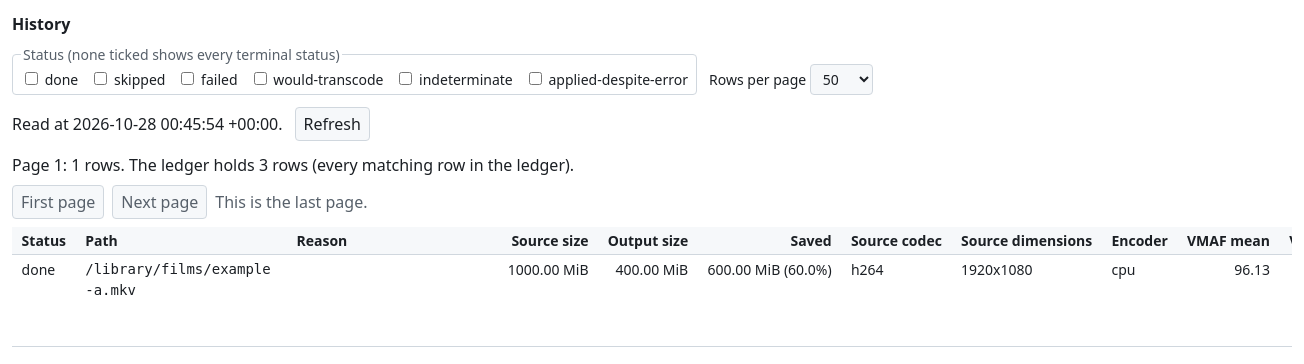
history view › history view: a page that arrives after the filter changed does not land over the newer one
Expected: the text "Read at 2026-10-28 00:45:54 +00:00." is shown, [12,112,282,136]
Click the checkbox labelled "failed" at {"x": 188, "y": 78}, box [182,72,194,85]
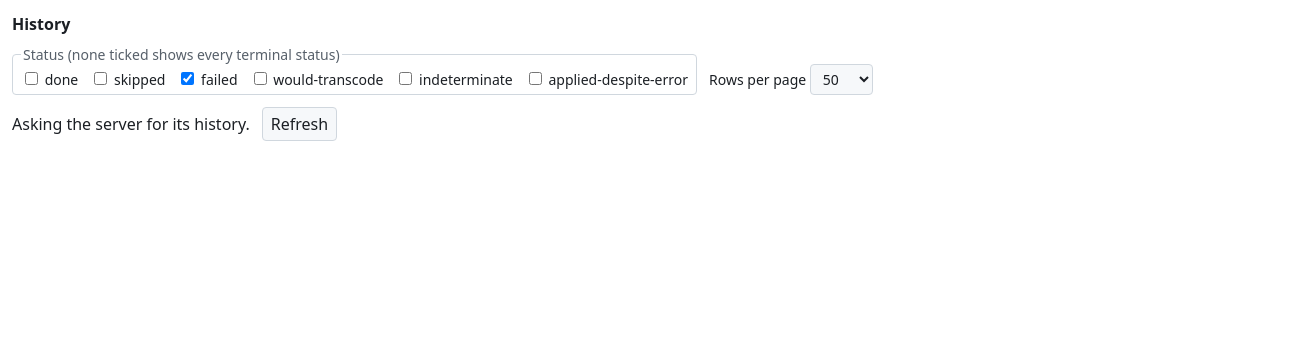
Click the checkbox labelled "failed" at {"x": 188, "y": 78}, box [182,72,194,85]
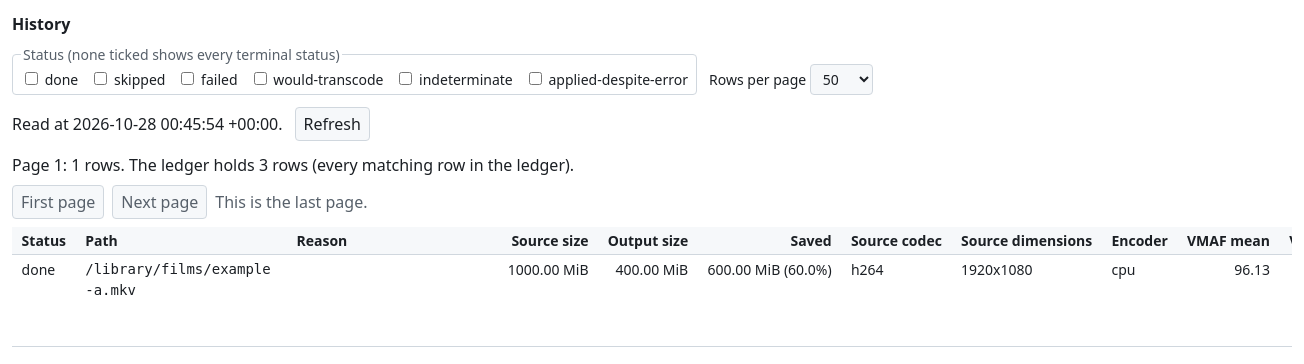
Expected: the label "done" is shown, [21,69,78,90]
Expected: the text "Read at 2026-10-28 00:45:54 +00:00." is shown, [12,112,282,136]
Expected: the text with test id "history-total" shows "The ledger holds 3 rows", [129,154,574,176]
